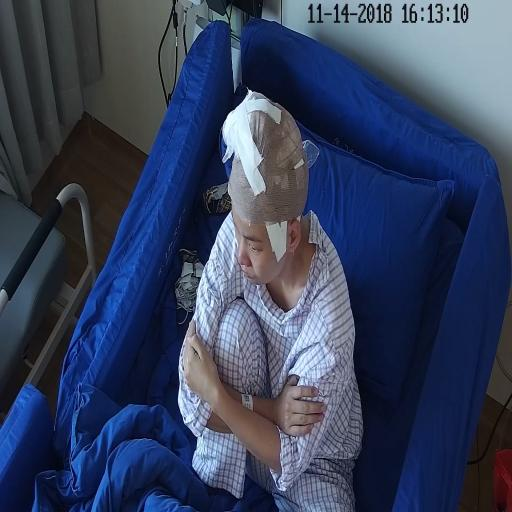Netural: (220, 130, 312, 292)
